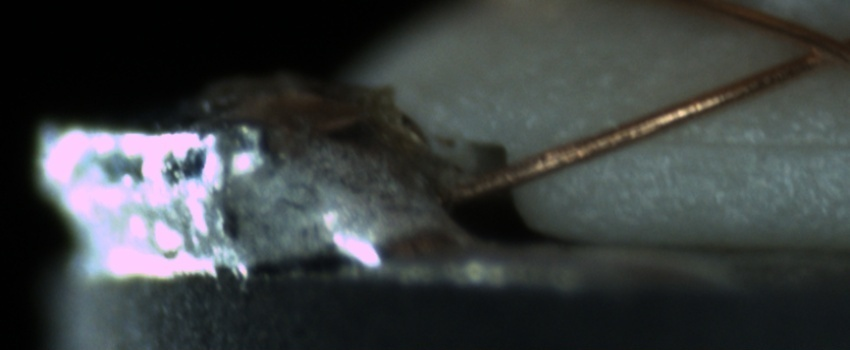CL: (776, 17, 848, 77)
DL: (616, 107, 846, 177)
